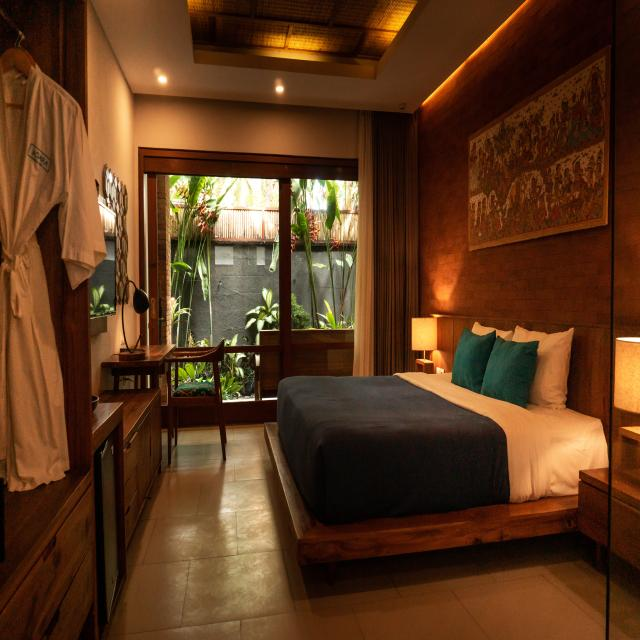floor: (105, 423, 607, 640), (609, 553, 640, 640)
